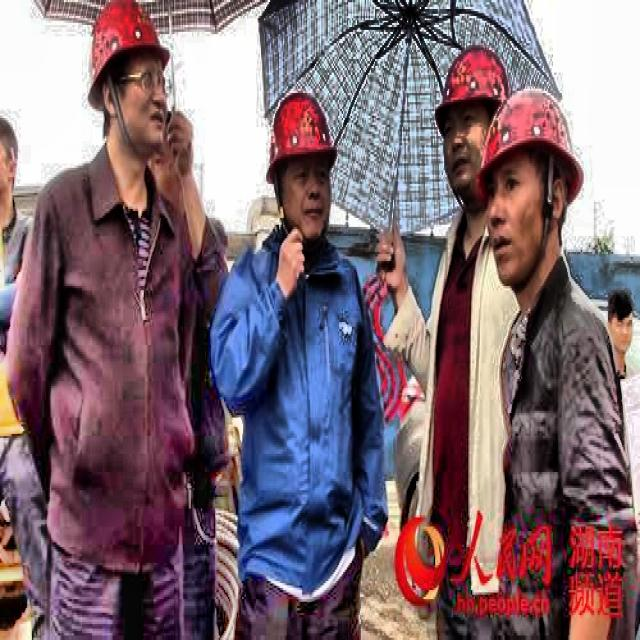helmet: (480, 77, 584, 284), (81, 0, 178, 175), (424, 32, 508, 206), (265, 78, 340, 248)
